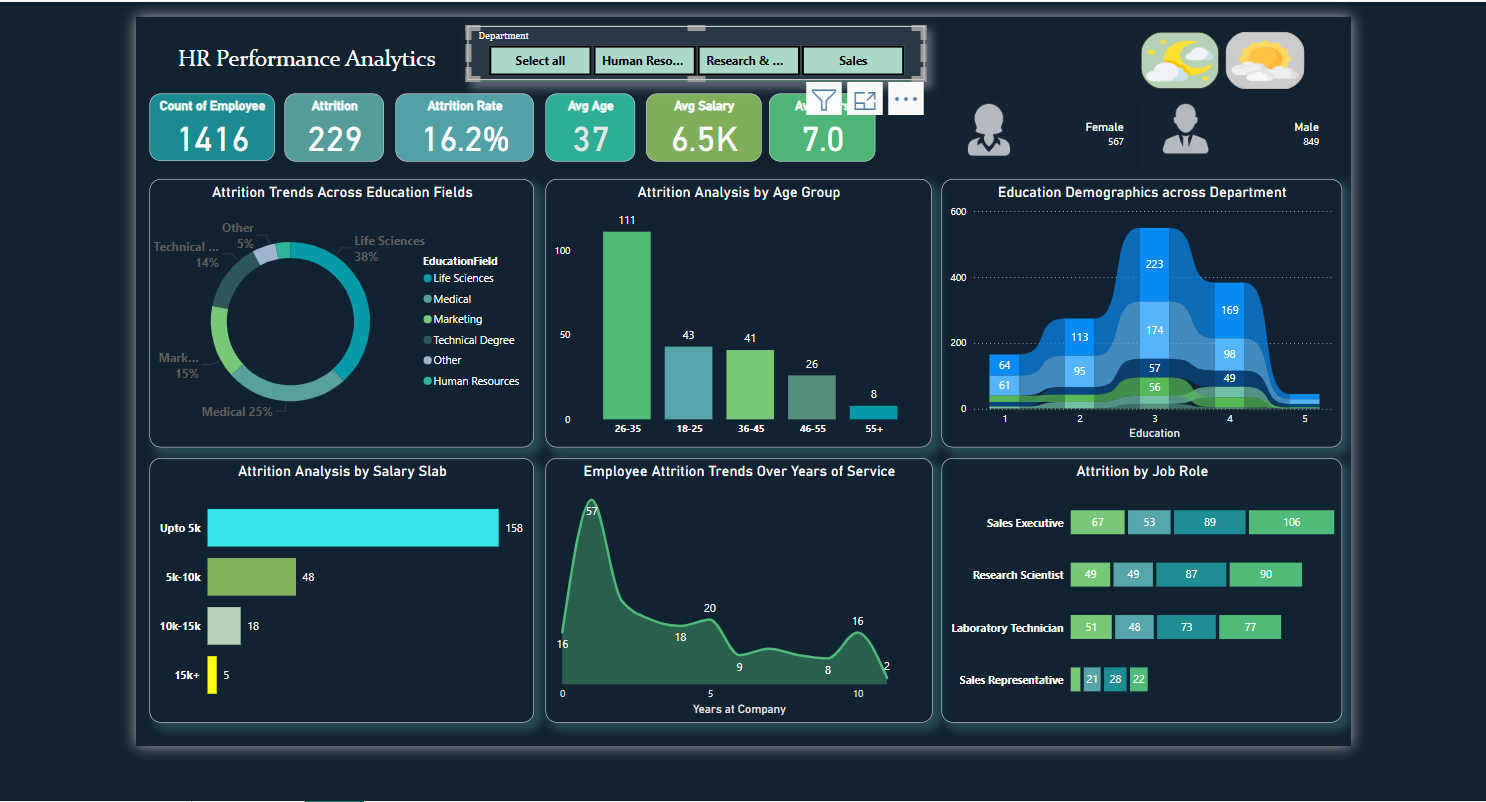

The dashboard page shown, as its layout file describes it:
{"tool":"powerbi","page":{"name":"Page 1","canvas":[1500,900],"ordinal":0},"visuals":[{"type":"shape","box":[0,0,1500,900],"z":0},{"type":"card","title":"Count of Employee","fields":{"Values":["CountNonNull(HR_Analytics.EmpID)"]},"box":[16,94,154.4,83.4],"z":1000},{"type":"card","title":"Attrition","fields":{"Values":["Sum(HR_Analytics.AttritionCount)"]},"box":[183,93.6,122.9,83.8],"z":2000},{"type":"card","title":"Attrition Rate","fields":{"Values":["HR_Analytics.AttritionRate"]},"box":[321.3,93.6,170.4,83.8],"z":3000},{"type":"card","title":"Avg Age","fields":{"Values":["Avg(HR_Analytics.Age)"]},"box":[505.7,93.6,110.4,83.8],"z":4000},{"type":"card","title":"Avg Salary","fields":{"Values":["Avg(HR_Analytics.MonthlyIncome)"]},"box":[630,93.6,142.5,83.8],"z":5000},{"type":"card","title":"Avg Years","fields":{"Values":["Avg(HR_Analytics.YearsAtCompany)"]},"box":[782.3,93.6,131.3,83.8],"z":6000},{"type":"donutChart","title":"Attrition Trends Across Education Fields","fields":{"Category":["HR_Analytics.EducationField"],"Y":["Sum(HR_Analytics.AttritionCount)"]},"box":[16.8,199.8,474.9,331.1],"z":7000},{"type":"columnChart","title":"Attrition Analysis by Age Group","fields":{"Category":["HR_Analytics.AgeGroup"],"Y":["Sum(HR_Analytics.AttritionCount)"]},"box":[505.7,199.8,476.3,331.1],"z":8000},{"type":"barChart","title":"Attrition Analysis by Salary Slab","fields":{"Category":["HR_Analytics.SalarySlab"],"Y":["Sum(HR_Analytics.AttritionCount)"]},"box":[16.8,544.8,474.9,326.9],"z":9000},{"type":"barChart","title":"Attrition by Job Role","fields":{"Y":["CountNonNull(HR_Analytics.JobRole)"],"Series":["HR_Analytics.JobSatisfaction"],"Category":["HR_Analytics.JobRole"]},"box":[994.6,544.8,494.5,326.9],"z":10000},{"type":"areaChart","title":"Employee Attrition Trends Over Years of Service","fields":{"Category":["HR_Analytics.YearsAtCompany"],"Y":["Sum(HR_Analytics.AttritionCount)"]},"box":[505.7,544.8,477.7,326.9],"z":11000},{"type":"slicer","fields":{"Values":["HR_Analytics.Department"]},"box":[409.3,11.2,564.3,67.4],"z":12000},{"type":"ribbonChart","title":"Education Demographics across Department ","fields":{"Category":["HR_Analytics.Education"],"Y":["CountNonNull(HR_Analytics.Department)"],"Series":["HR_Analytics.EducationField"]},"box":[994.6,199.8,494.5,331.1],"z":13000},{"type":"image","box":[1260.2,102.3,73.4,71.9],"z":14000},{"type":"image","box":[1012.5,102.3,79.7,74.2],"z":15000},{"type":"advancedSlicerVisual","fields":{"Values":["HR_Analytics.Gender"]},"box":[994,94,484,100],"z":16000},{"type":"advancedSlicerVisual","fields":{"Values":["Dark_Mode.Label"]},"box":[1235.4,12.5,212.5,81.2],"z":17000},{"type":"shape","box":[27.4,11.3,366.1,79],"z":18000}]}

Visuals, with their boxes on the page's 1500x900 design canvas (x1, y1, x2, y2). These are canvas units, not pixel positions in the 1486x802 screenshot, which may show the page scaled, cropped or inside an application window:
shape: 0:0:1500:900
"Count of Employee" card: 16:94:170:177
"Attrition" card: 183:94:306:177
"Attrition Rate" card: 321:94:492:177
"Avg Age" card: 506:94:616:177
"Avg Salary" card: 630:94:772:177
"Avg Years" card: 782:94:914:177
"Attrition Trends Across Education Fields" donutChart: 17:200:492:531
"Attrition Analysis by Age Group" columnChart: 506:200:982:531
"Attrition Analysis by Salary Slab" barChart: 17:545:492:872
"Attrition by Job Role" barChart: 995:545:1489:872
"Employee Attrition Trends Over Years of Service" areaChart: 506:545:983:872
slicer - HR_Analytics.Department: 409:11:974:79
"Education Demographics across Department " ribbonChart: 995:200:1489:531
image: 1260:102:1334:174
image: 1012:102:1092:176
advancedSlicerVisual - HR_Analytics.Gender: 994:94:1478:194
advancedSlicerVisual - Dark_Mode.Label: 1235:12:1448:94
shape: 27:11:394:90
